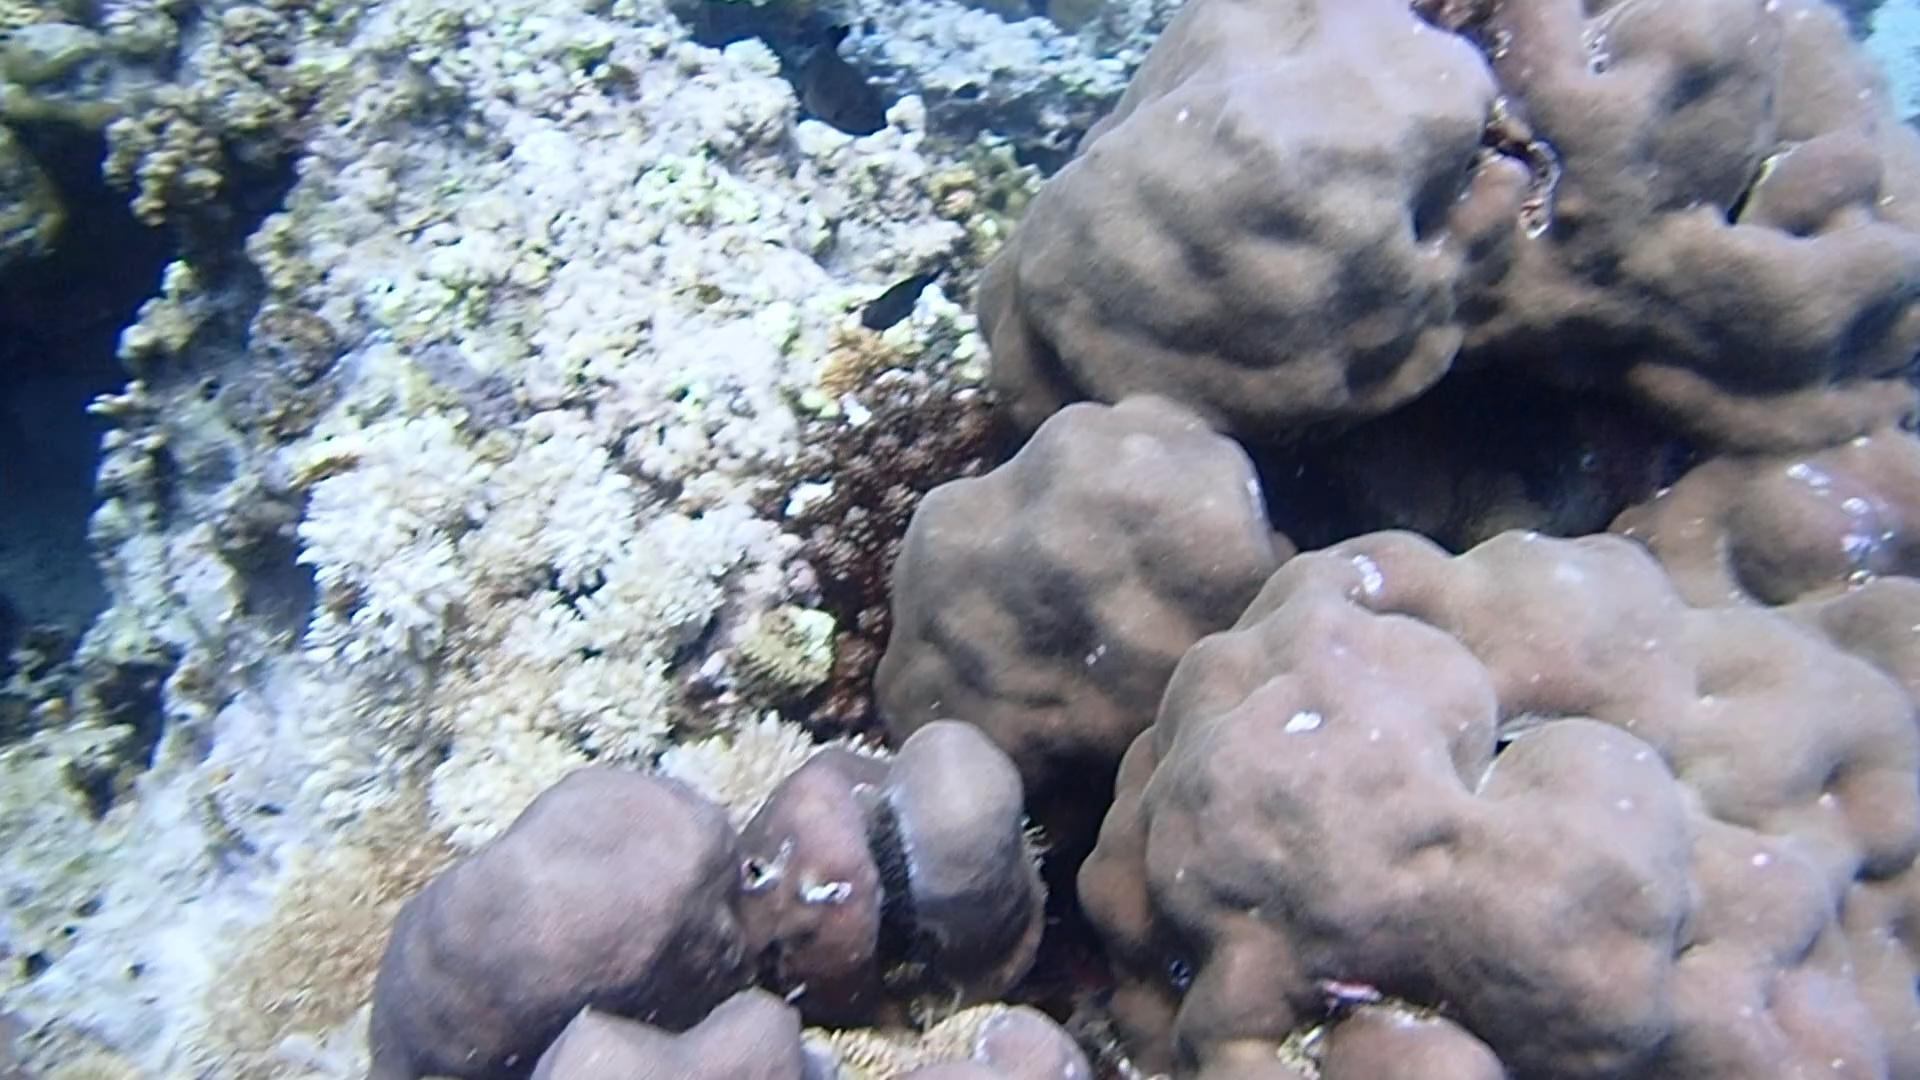Dark Fish: (773, 20, 903, 145), (845, 256, 957, 344), (789, 5, 849, 53), (942, 71, 989, 112)
